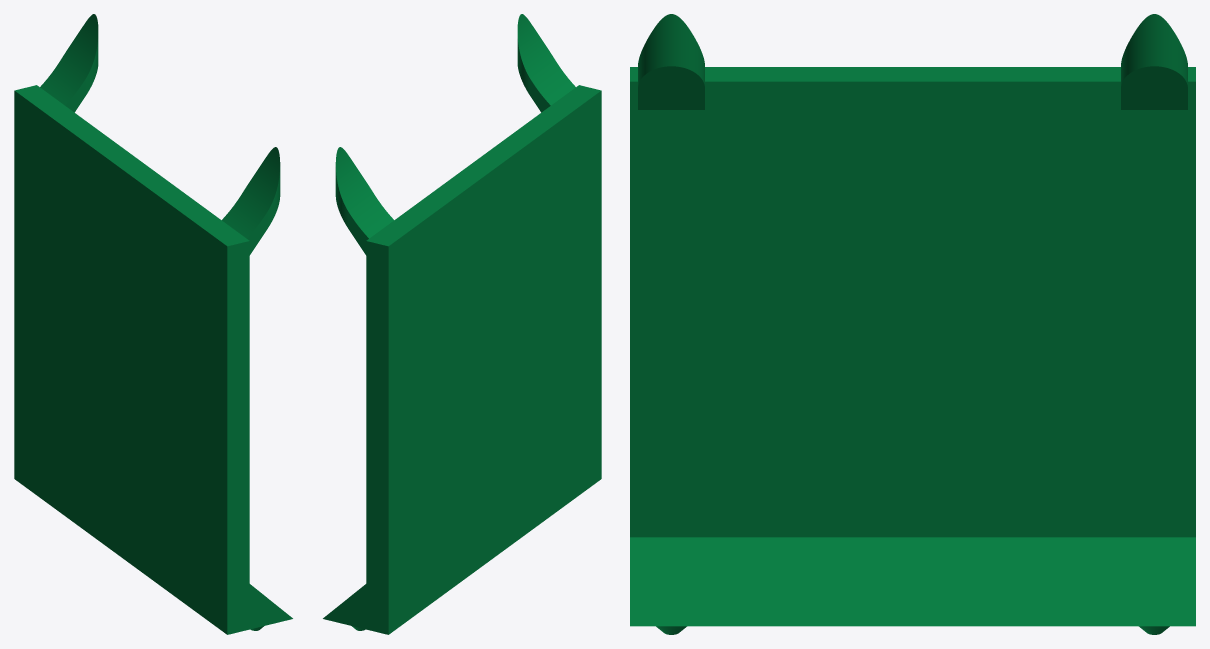
Rendered from Cube 1x1 V5_Cover Side (Normal).obj.
3 renders of one model, left to right at view 1: azimuth 30°, elevation 25°; view 2: azimuth 150°, elevation 25°; view 3: azimuth 270°, elevation 25°, orthographic. The views are drawn at different scales.
Visible parts, largest first — view 1: Solid1:35; view 2: Solid1:35; view 3: Solid1:35.
Part boxes in pixels (x1,y1,x2,y2): Solid1:35: (14,14,292,634); Solid1:35: (323,14,601,634); Solid1:35: (630,14,1195,634).
Bounding box in the file's own units: 6.05 × 41.59 × 33.75.
